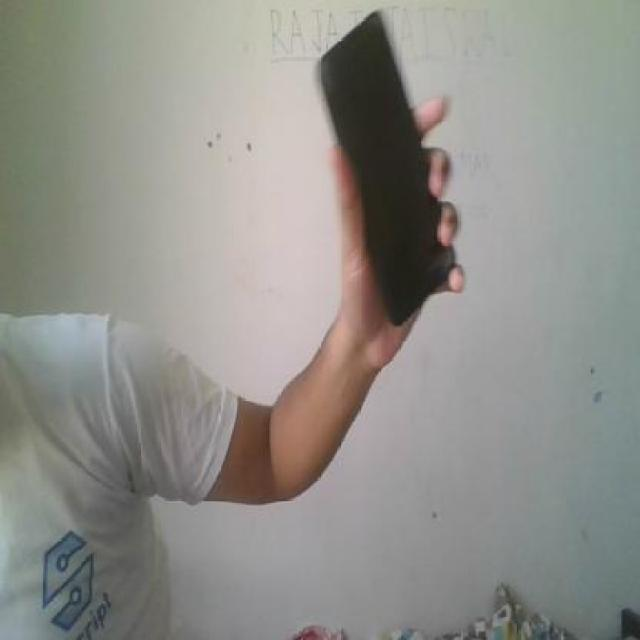Phone: (312, 10, 458, 324)
